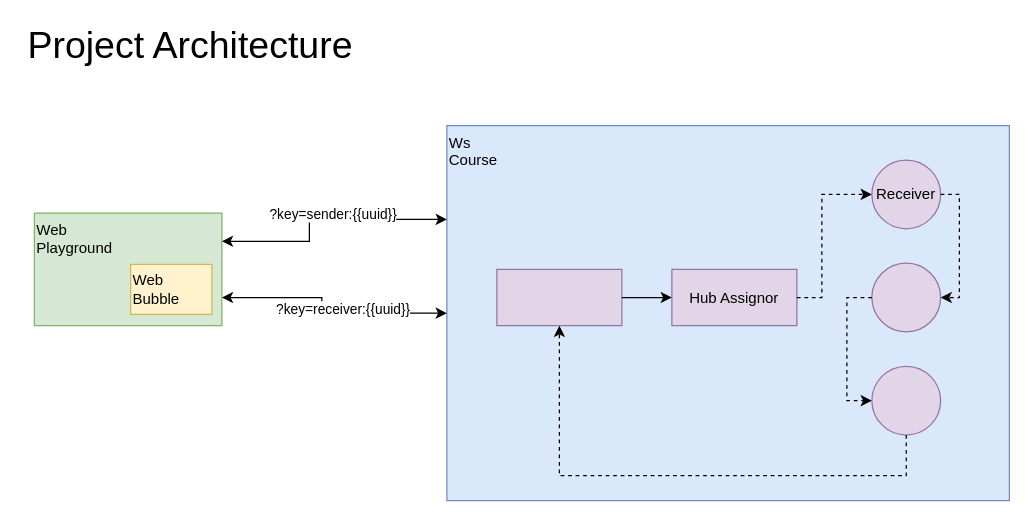
The diagram is 1031 pixels wide and 523 high, and some of its shapes have lost their labels. The shapes that lost their labels are listed below. From the top down, each one's centre as x and y in pixels, then its label:
At point (559, 297): "Handler".
At point (906, 297): "Process".
At point (906, 400): "Sender".
